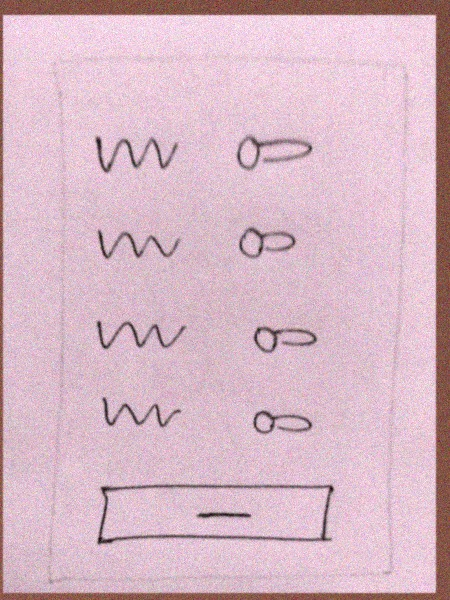button: (87, 473, 344, 550)
switch: (227, 122, 325, 178), (243, 311, 330, 362), (233, 217, 305, 277), (243, 398, 328, 448)
text: (83, 125, 196, 181), (91, 305, 197, 359), (89, 216, 195, 269), (91, 387, 199, 434)
